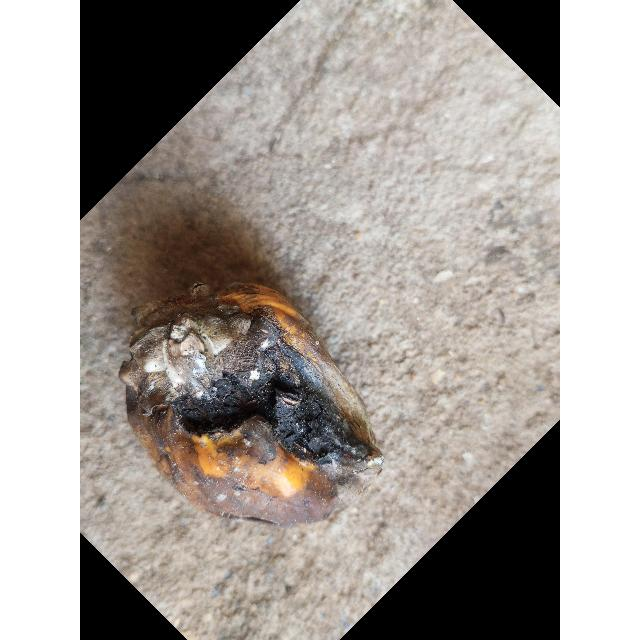damaged: (118, 288, 380, 530)
